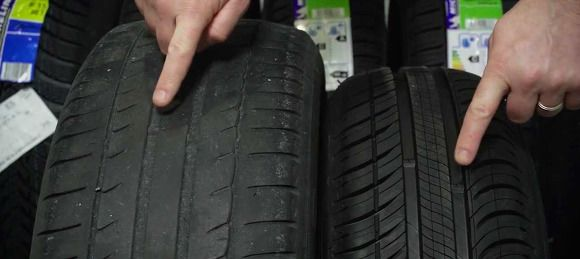bad_condition: (27, 109, 315, 257)
